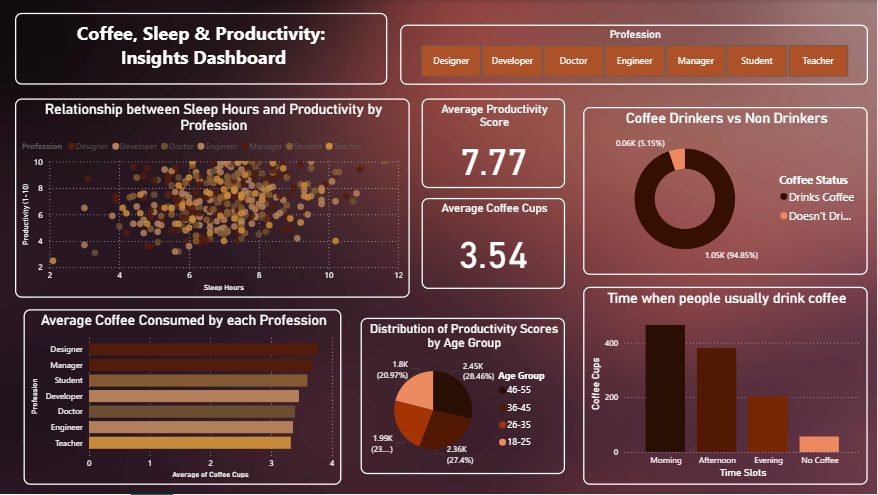

Layout of this report page (visuals, bound fields, positions):
{"tool":"powerbi","page":{"name":"Page 1","canvas":[1280,720],"ordinal":0},"visuals":[{"type":"clusteredBarChart","title":"Average Coffee Consumed by each Profession","fields":{"Category":["Sheet1.Profession"],"Y":["Avg(Sheet1.Coffee Cups)"]},"box":[34.3,451,463.5,255.9],"z":0},{"type":"donutChart","title":"Coffee Drinkers vs Non Drinkers","fields":{"Category":["Sheet1.NonCoffeeDrinkers"],"Y":["CountNonNull(Sheet1.Profession)"]},"box":[850.4,156,415.1,245],"z":1000},{"type":"clusteredColumnChart","title":"Time when people usually drink coffee","fields":{"Category":["Sheet1.Time Slots"],"Y":["CountNonNull(Sheet1.Coffee Cups)"]},"box":[850.4,418.2,415.1,288.7],"z":2000},{"type":"card","title":"Average Productivity Score","fields":{"Values":["Avg(Sheet1.Productivity (1-10))"]},"box":[614.8,143.6,209.1,131.1],"z":3000},{"type":"pieChart","title":"Distribution of Productivity Scores by Age Group","fields":{"Category":["Sheet1.Age Group"],"Y":["Sum(Sheet1.Productivity (1-10))"]},"box":[525.9,463.5,298,227.8],"z":4000},{"type":"scatterChart","title":"Relationship between Sleep Hours and Productivity by Profession","fields":{"X":["Sheet1.Sleep Hours"],"Y":["Sheet1.Productivity (1-10)"],"Series":["Sheet1.Profession"]},"box":[21.8,143.6,575.8,290.2],"z":5000},{"type":"card","title":"Average Coffee Cups","fields":{"Values":["Avg(Sheet1.Coffee Cups)"]},"box":[614.8,288.7,209.1,132.6],"z":6000},{"type":"slicer","title":"Profession","fields":{"Values":["Sheet1.Profession"]},"box":[583.6,35.9,681.9,87.4],"z":7000},{"type":"textbox","box":[21.8,18.7,543,104.5],"z":8000}]}

Visuals, with their boxes in screenshot pixels (x1, y1, x2, y2), scaled from the page's 1280x720 canvas onto the 878x495 screenshot:
"Average Coffee Consumed by each Profession" clusteredBarChart: (24, 310, 341, 486)
"Coffee Drinkers vs Non Drinkers" donutChart: (583, 107, 868, 276)
"Time when people usually drink coffee" clusteredColumnChart: (583, 288, 868, 486)
"Average Productivity Score" card: (422, 99, 565, 189)
"Distribution of Productivity Scores by Age Group" pieChart: (361, 319, 565, 475)
"Relationship between Sleep Hours and Productivity by Profession" scatterChart: (15, 99, 410, 298)
"Average Coffee Cups" card: (422, 198, 565, 290)
"Profession" slicer: (400, 25, 868, 85)
textbox: (15, 13, 387, 85)
